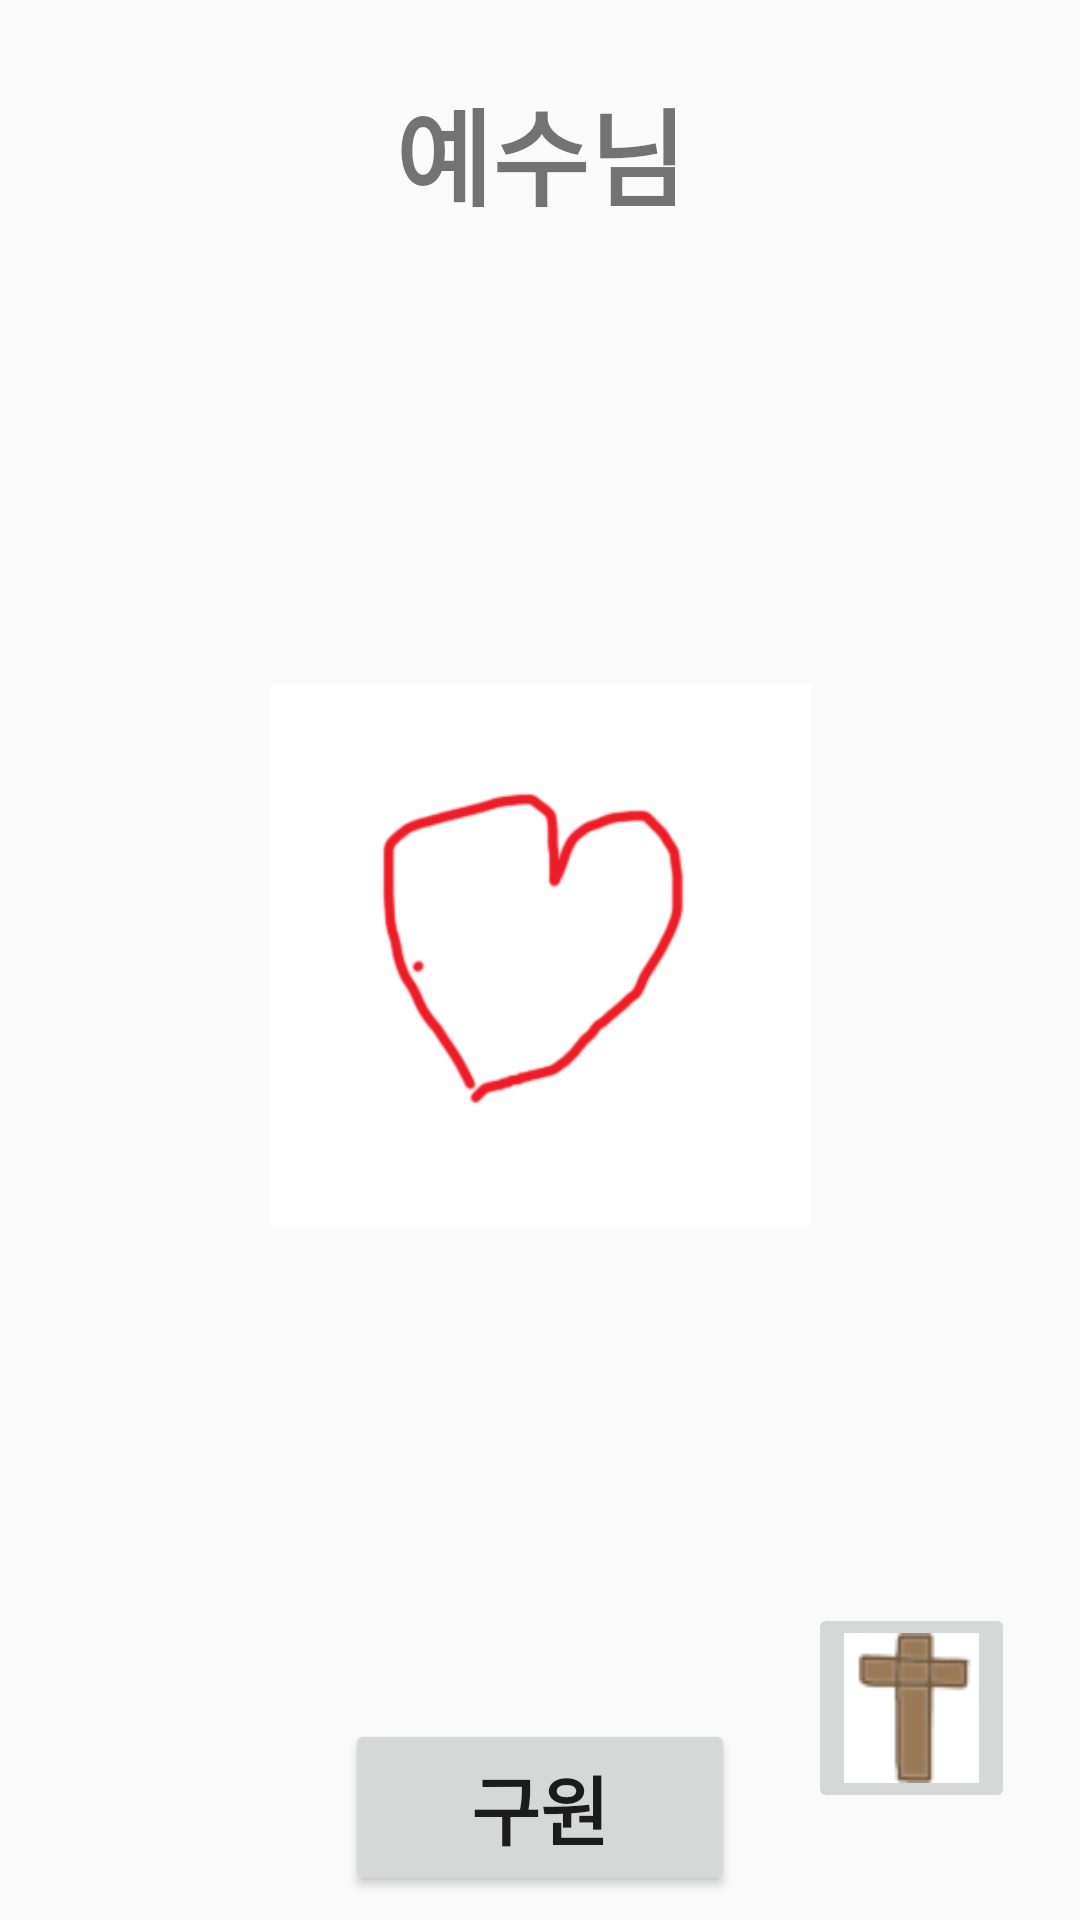

Screen size 1080 x 1920. Icon name, then its box in pixels as (x1, y1, x2, y2):
cross: (820, 1621, 1003, 1795)
heart: (383, 793, 684, 1103)
